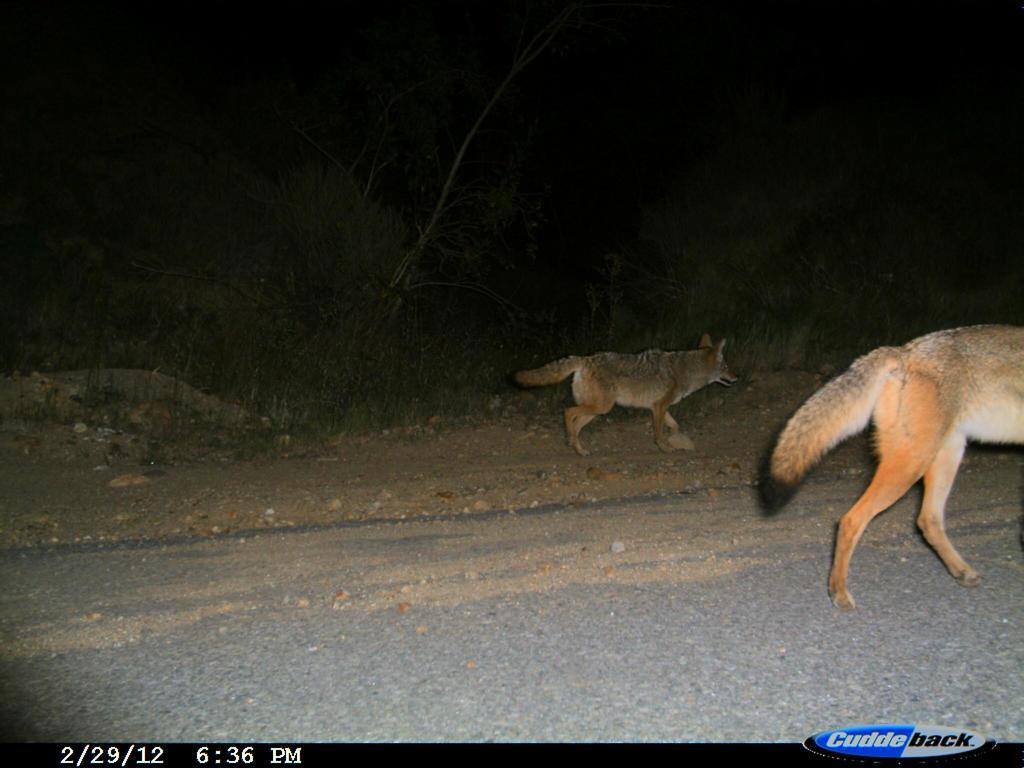coyote: (770, 317, 1021, 606), (509, 319, 740, 486)
